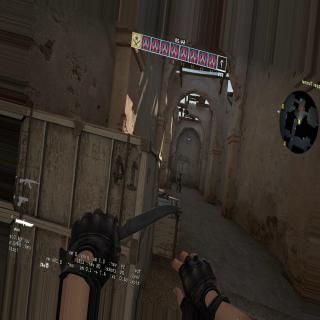CT-Body: (176, 170, 183, 194)
CT-Head: (179, 172, 182, 176)
